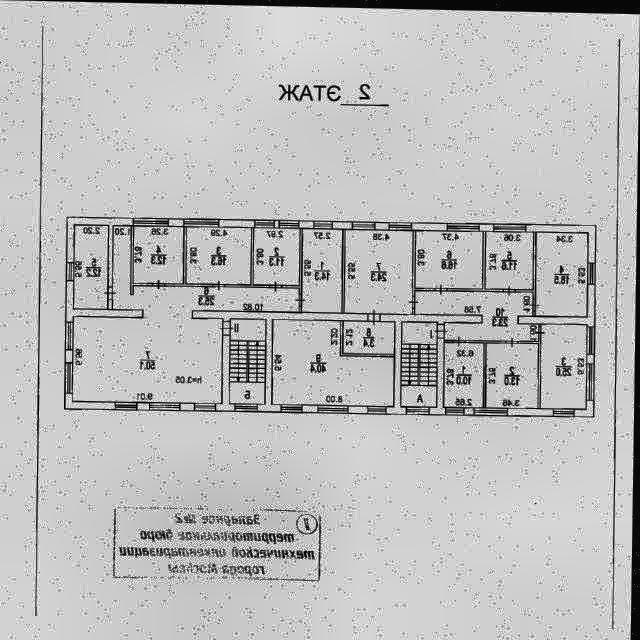room: (47, 217, 308, 463), (272, 320, 394, 404), (415, 288, 540, 338), (346, 227, 413, 312), (536, 229, 589, 313), (416, 228, 484, 286), (187, 225, 253, 283), (541, 322, 586, 405), (487, 340, 539, 405), (302, 227, 342, 310), (402, 319, 438, 404), (134, 224, 184, 283), (231, 319, 266, 403), (75, 224, 109, 308), (486, 228, 534, 287), (445, 339, 485, 405), (255, 226, 300, 283), (344, 321, 394, 352)
